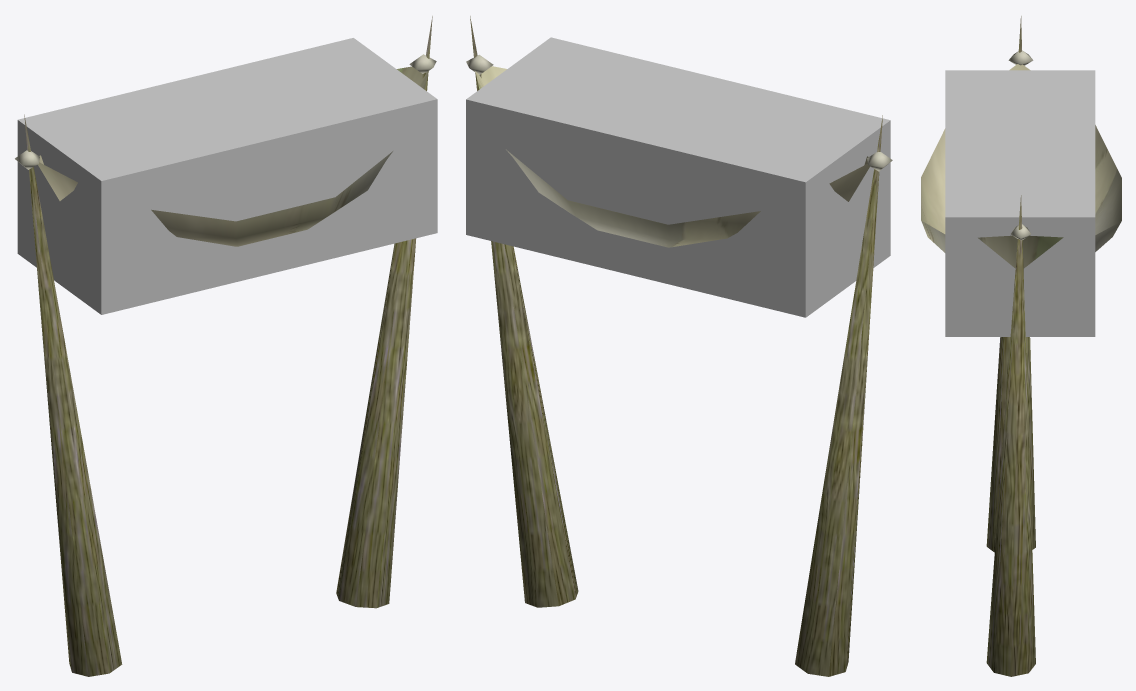
The model's file is hammock.obj.
The picture shows the model from 3 angles, left to right: view 1: azimuth 30°, elevation 25°; view 2: azimuth 150°, elevation 25°; view 3: azimuth 270°, elevation 25°; orthographic projection. The views are drawn at different scales.
Parts seen in each view (by area): view 1: Box02, Cylinder01, Duplicate00, Sphere04; view 2: Box02, Cylinder01, Duplicate00, Sphere04; view 3: Box02, Duplicate00, Sphere04, Cylinder01.
Part boxes in pixels (box(x1,y1,x2,y2)): Box02: box(17, 38, 437, 314); Cylinder01: box(24, 114, 122, 676); Duplicate00: box(336, 16, 432, 608); Sphere04: box(37, 66, 428, 246); Box02: box(466, 37, 890, 317); Cylinder01: box(795, 115, 882, 676); Duplicate00: box(470, 16, 578, 607); Sphere04: box(475, 66, 869, 247); Box02: box(945, 70, 1095, 336); Duplicate00: box(986, 195, 1035, 676); Sphere04: box(921, 64, 1121, 268); Cylinder01: box(986, 16, 1035, 552).
Size of the model in its own units: 24.77 by 32.11 by 11.52.
